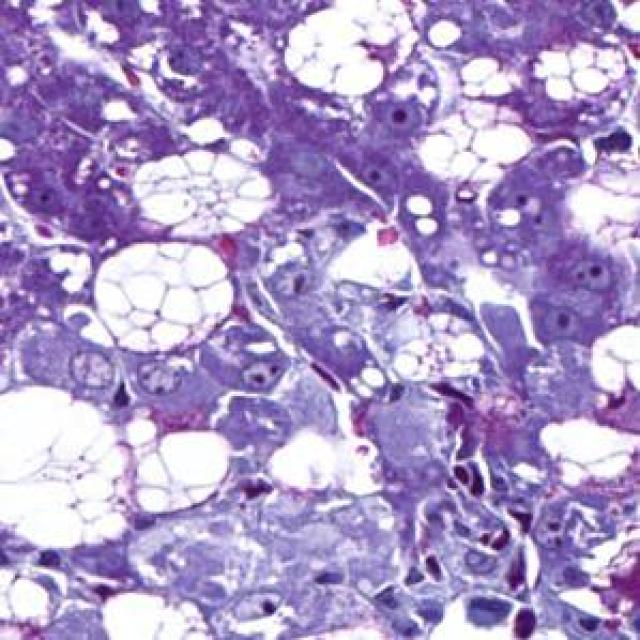ballooning: (8, 379, 144, 561), (88, 236, 242, 360), (127, 137, 280, 242), (280, 6, 424, 103), (411, 92, 537, 195), (132, 424, 238, 522), (531, 32, 631, 111)
